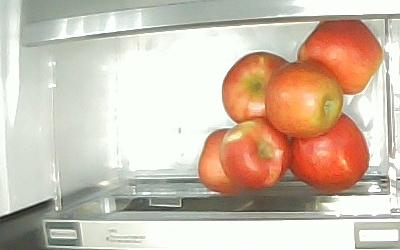apple: (289, 112, 369, 194), (297, 19, 383, 94), (264, 61, 342, 137), (219, 120, 289, 190), (221, 51, 286, 124), (196, 127, 246, 194)
